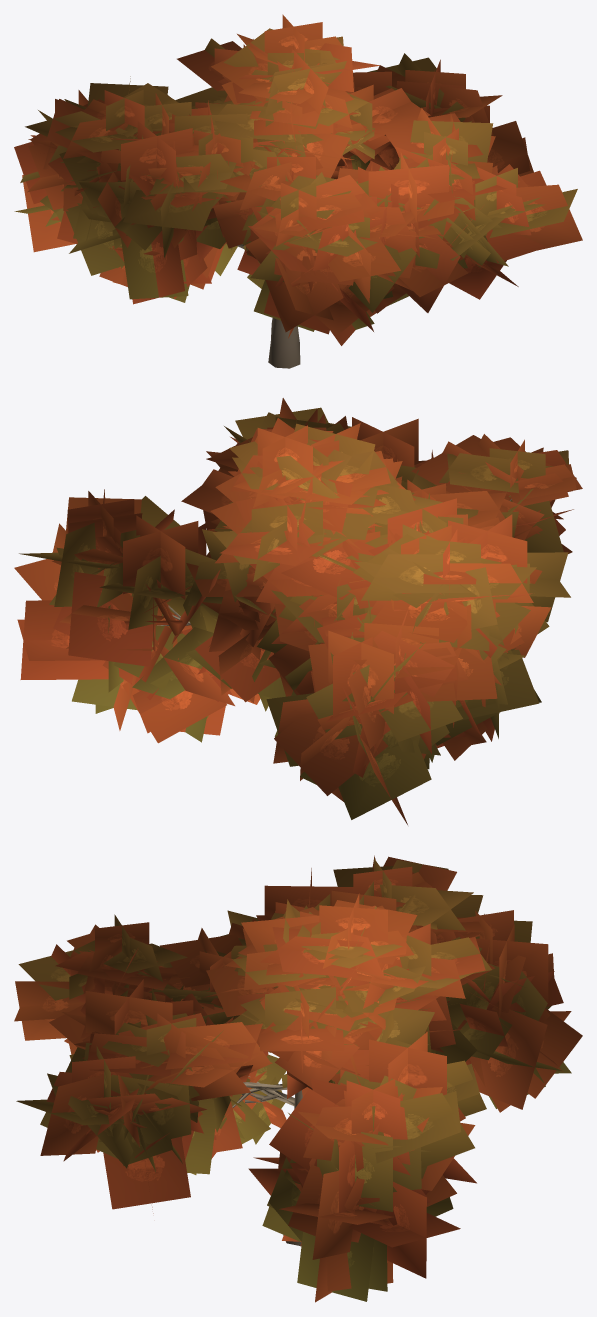
Rendered from flamboyan.glb.
3 renders of one model, top to bottom at view 1: azimuth 30°, elevation 25°; view 2: azimuth 150°, elevation 25°; view 3: azimuth 270°, elevation 25°, orthographic. The views are drawn at different scales.
Visible parts, largest first — view 1: flamboyan; view 2: flamboyan; view 3: flamboyan.
Boxes of the visible parts, x1,y1,x2,y2 form: flamboyan: [14, 14, 582, 368]; flamboyan: [14, 398, 582, 824]; flamboyan: [14, 855, 582, 1302].
Bounding box in the file's own units: 16.09 × 10.27 × 15.21.
Materials: 2 (1 with a texture image).
